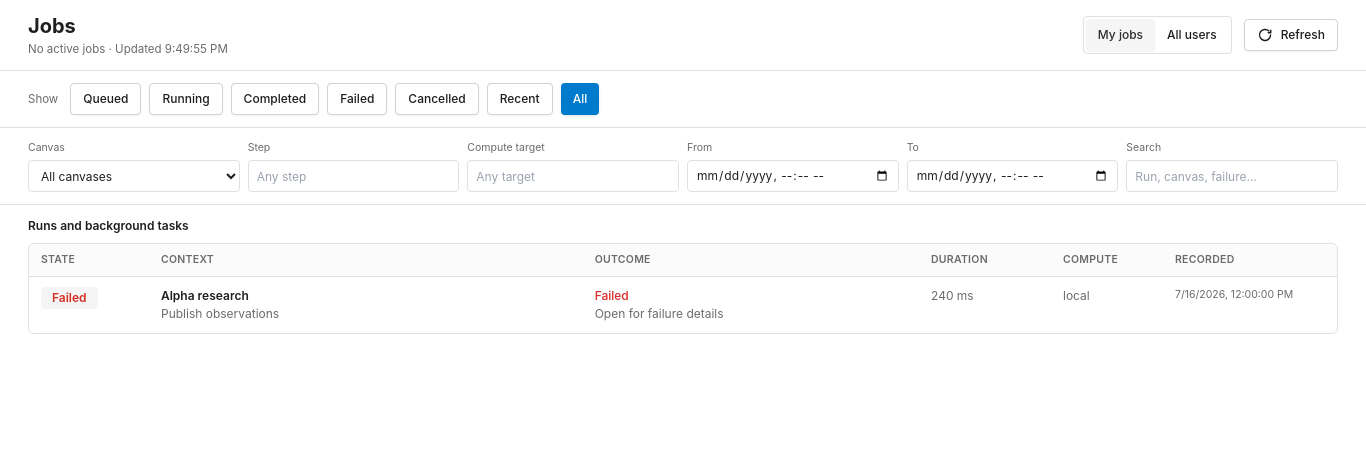
JobsView › keeps internal run evidence out of the user-facing Job detail
Click the button with test id "job-row-run-1": (683, 305) 29,277 -> 1337,333
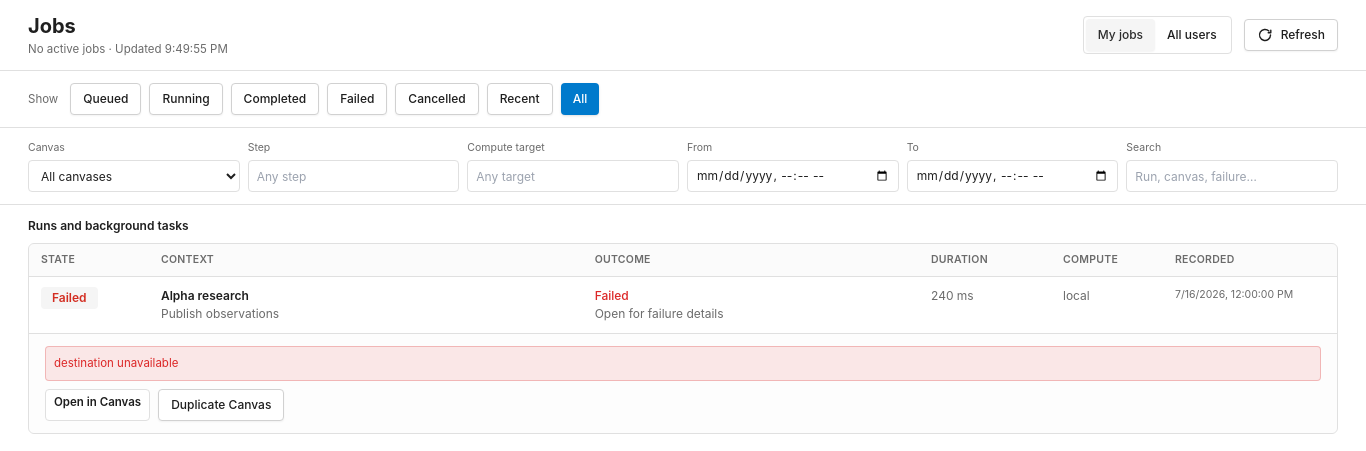
Check: the message reads "destination unavailable", box 54,356 -> 178,370
